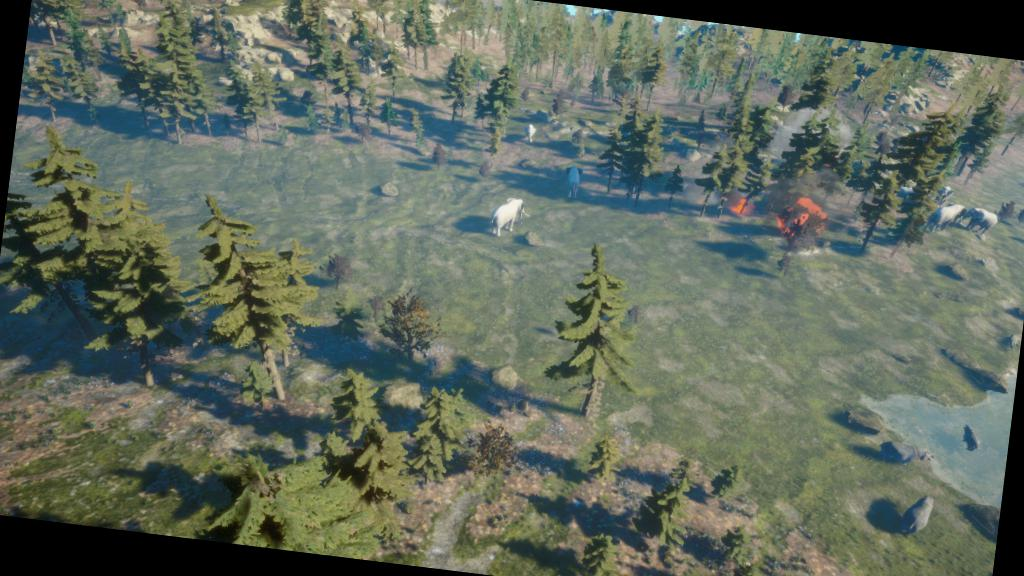Fire: (774, 194, 834, 250), (724, 190, 756, 220)
elephant: (484, 193, 537, 245), (554, 158, 592, 210), (958, 201, 1004, 243), (520, 121, 544, 148)
hippopotamus: (868, 430, 946, 478), (890, 488, 943, 544), (952, 418, 990, 462)
